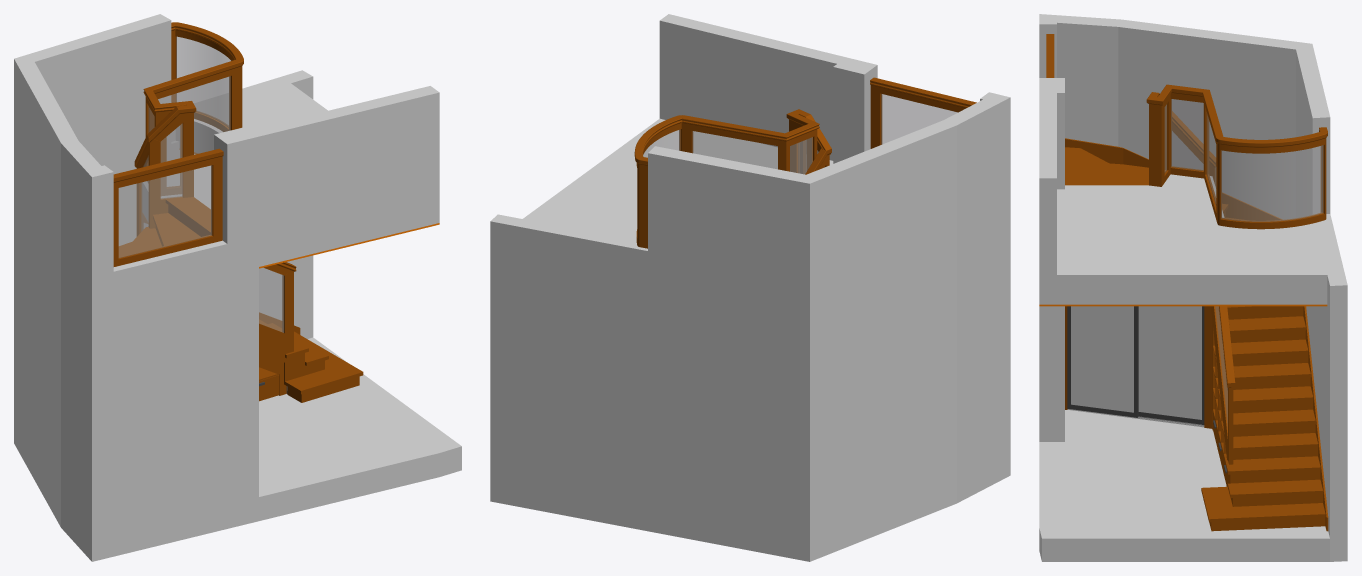
File: 3D Сборка 1.obj
The picture shows the model from 3 angles, left to right: view 1: azimuth 30°, elevation 25°; view 2: azimuth 150°, elevation 25°; view 3: azimuth 270°, elevation 25°; orthographic projection. The views are drawn at different scales.
Bounding box in the file's own units: 4.68 × 4.63 × 3.47.
